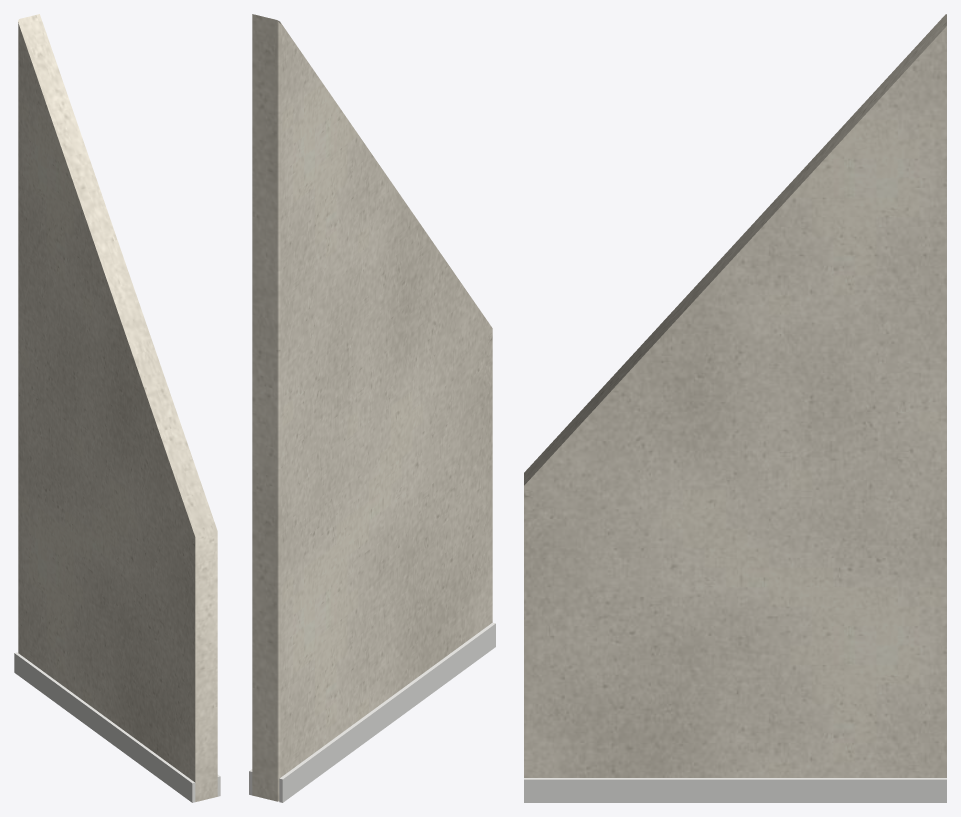
File: attic_partition_bath.glb
3 renders of one model, left to right at view 1: azimuth 30°, elevation 25°; view 2: azimuth 150°, elevation 25°; view 3: azimuth 270°, elevation 25°, orthographic. The views are drawn at different scales.
Visible parts, largest first — view 1: attic_partition_bath_plaster, attic_partition_bath_trim; view 2: attic_partition_bath_plaster, attic_partition_bath_trim; view 3: attic_partition_bath_plaster, attic_partition_bath_trim.
Boxes of the visible parts, box(x1,y1,x2,y2) form: attic_partition_bath_plaster: box(18, 14, 217, 801); attic_partition_bath_trim: box(14, 652, 220, 802); attic_partition_bath_plaster: box(252, 14, 492, 801); attic_partition_bath_trim: box(249, 622, 495, 802); attic_partition_bath_plaster: box(524, 14, 946, 777); attic_partition_bath_trim: box(524, 778, 946, 802).
Bounding box in the file's own units: 0.15 × 3.32 × 1.64.
2 materials, 1 textured.
